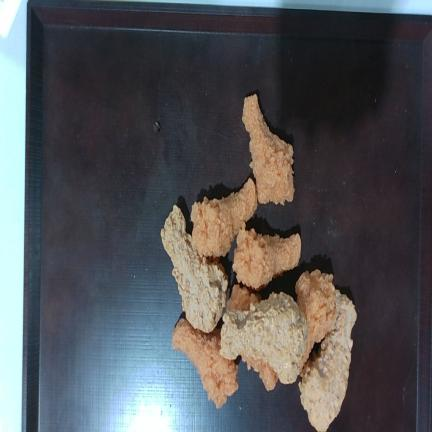chicken: (161, 205, 228, 332), (299, 292, 356, 431), (221, 293, 307, 383), (172, 319, 238, 408), (242, 94, 294, 205), (191, 178, 257, 257), (233, 223, 301, 290), (296, 269, 336, 363)
